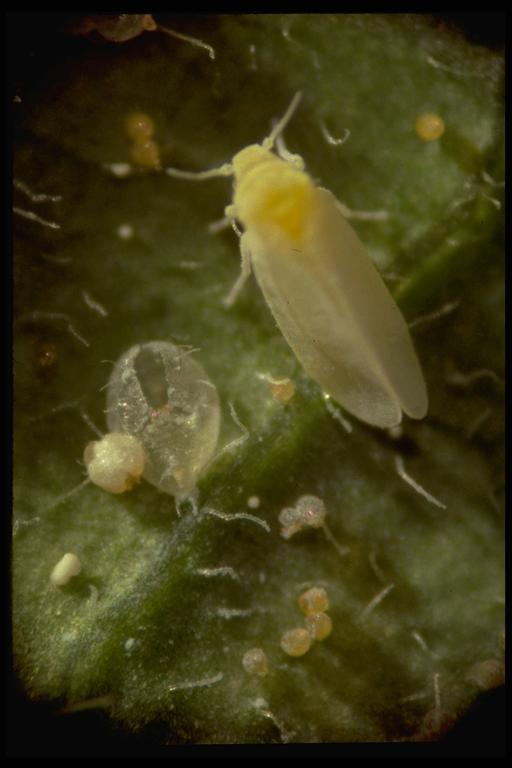Tobacco Whitefly: (163, 120, 453, 456)
